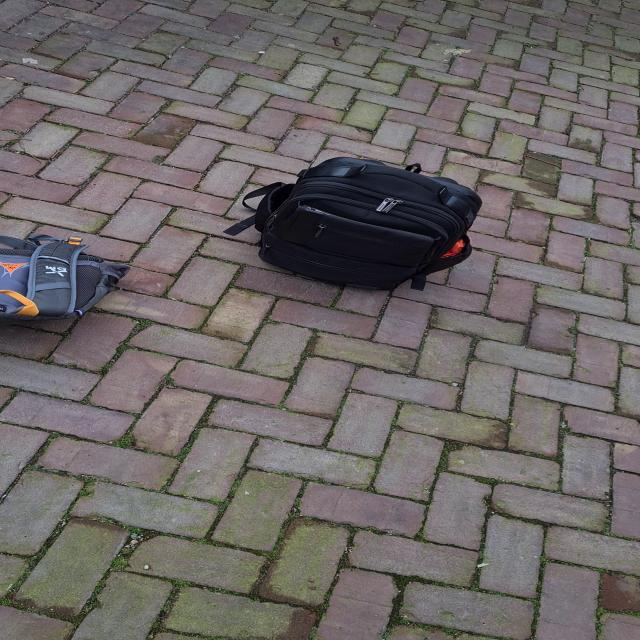backpack: (242, 153, 489, 293), (1, 235, 133, 319)
